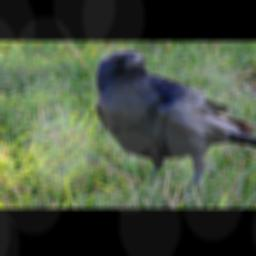Crow: (95, 49, 256, 192)
